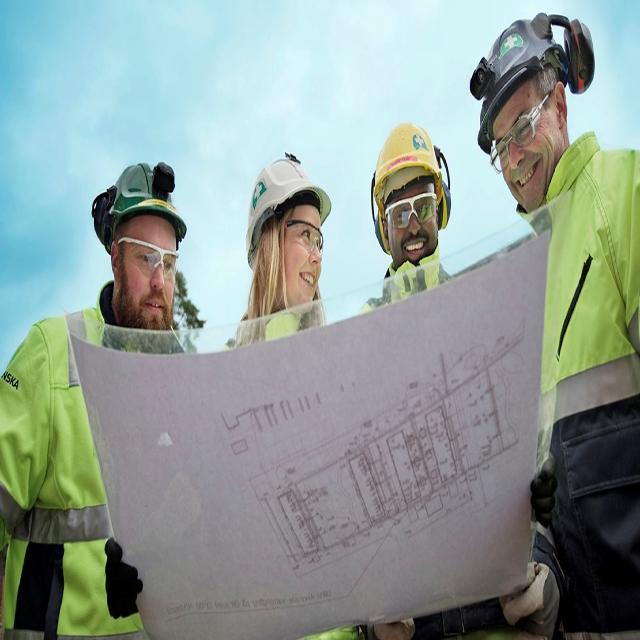Reflective-Jacket: (532, 126, 640, 634), (0, 316, 148, 638)
Safety-Helmet: (245, 147, 333, 231), (371, 114, 442, 191)
